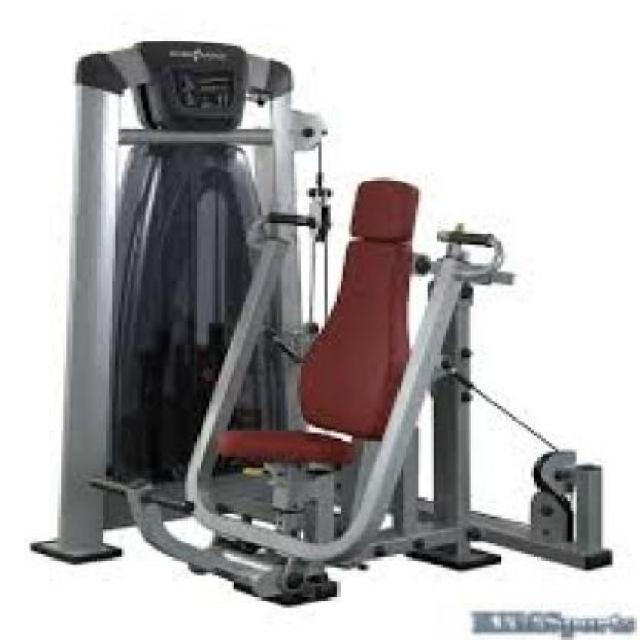Chest Press machine: (27, 26, 618, 611)
